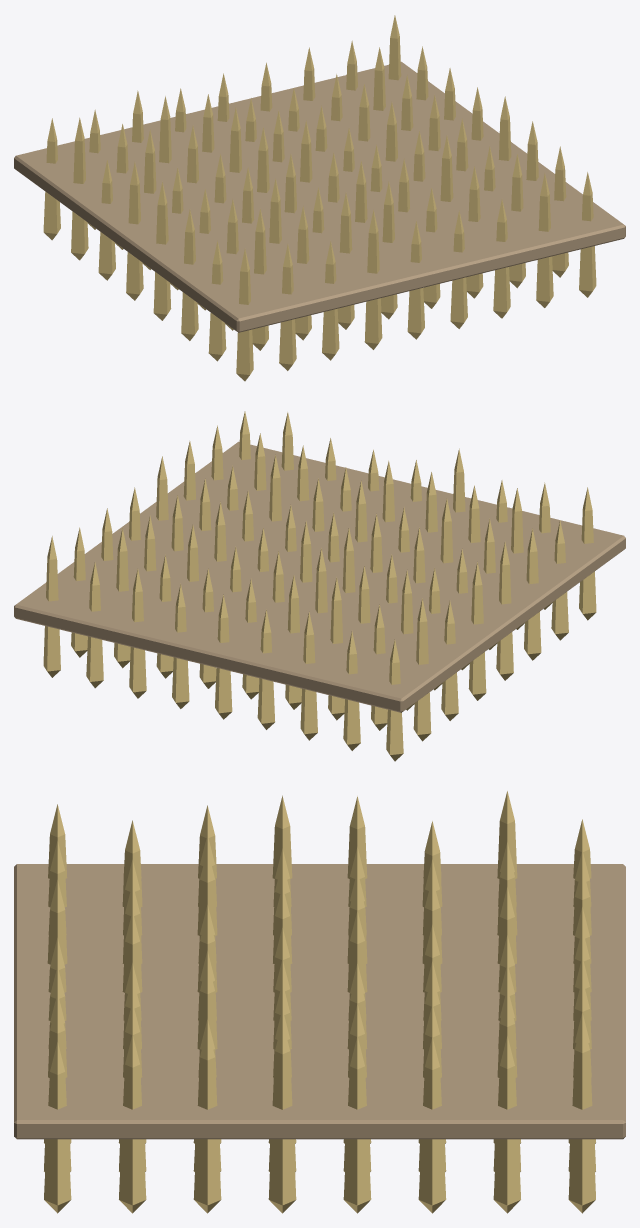
File: town_wheat_field_tile.glb
The picture shows the model from 3 angles, top to bottom: view 1: azimuth 30°, elevation 25°; view 2: azimuth 150°, elevation 25°; view 3: azimuth 270°, elevation 25°; orthographic projection. The views are drawn at different scales.
Parts seen in each view (by area): view 1: world; view 2: world; view 3: world.
Boxes of the visible parts, x1,y1,x2,y2 form: world: (14, 15, 625, 381); world: (14, 411, 625, 761); world: (14, 791, 625, 1213).
Bounding box in the file's own units: 2 × 0.7074 × 2.
